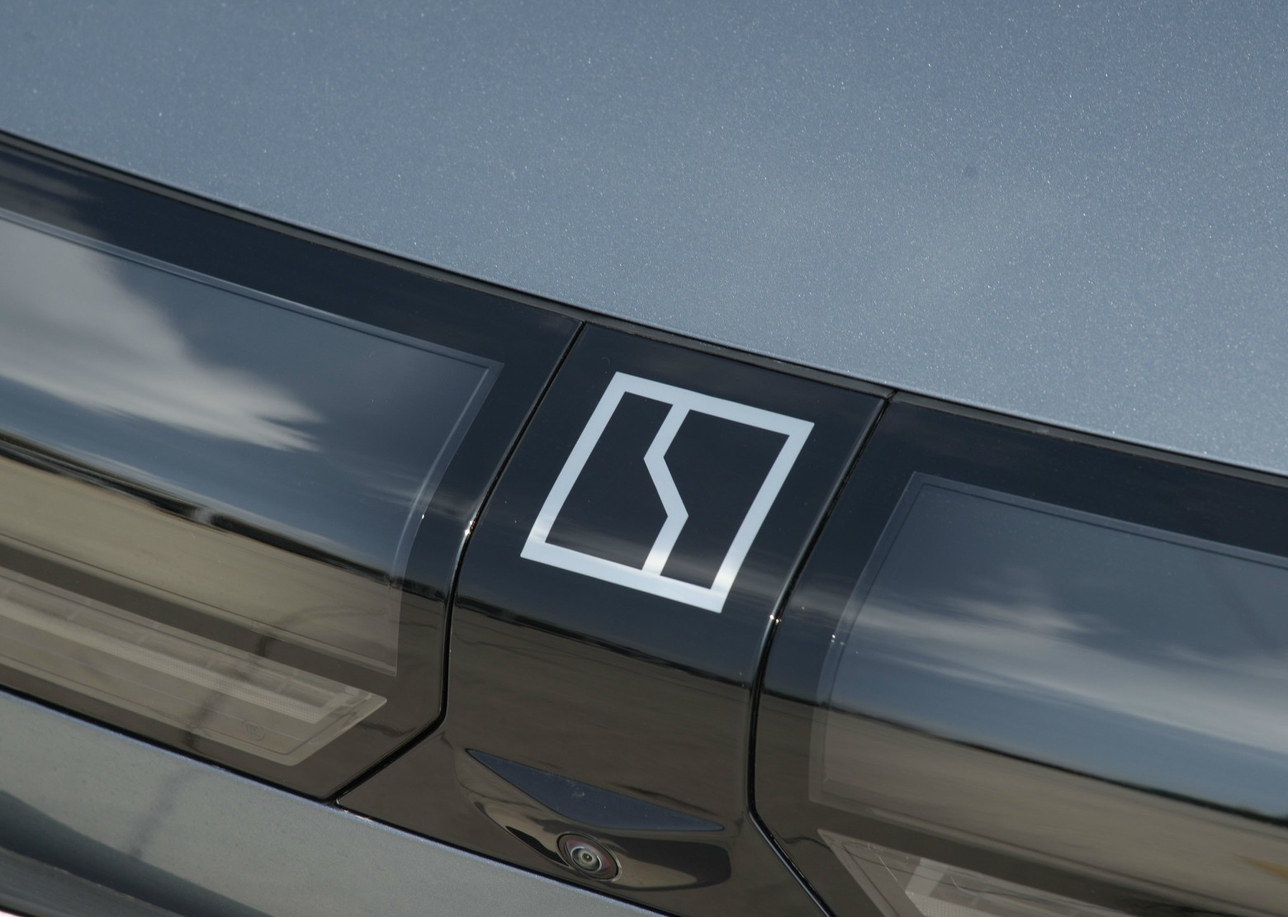ZEEKR: (521, 372, 814, 613)
